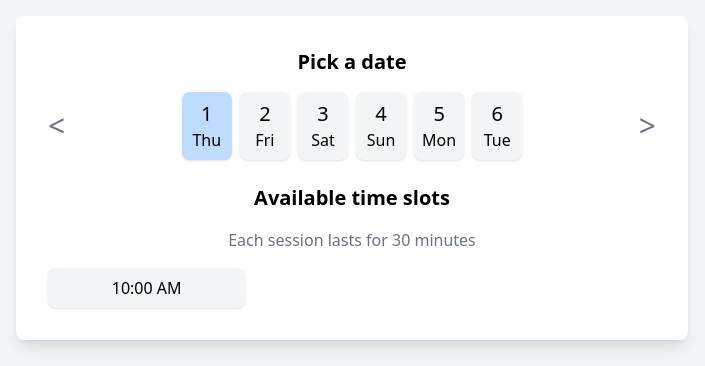
DateTimePicker Component › paginates through dates
The image size is (705, 366).
Expected: the text "1" is shown, [201,100,212,128]
Note: Test pagination to next page
Click the button ">" at (647, 126), box [639,108,656,144]
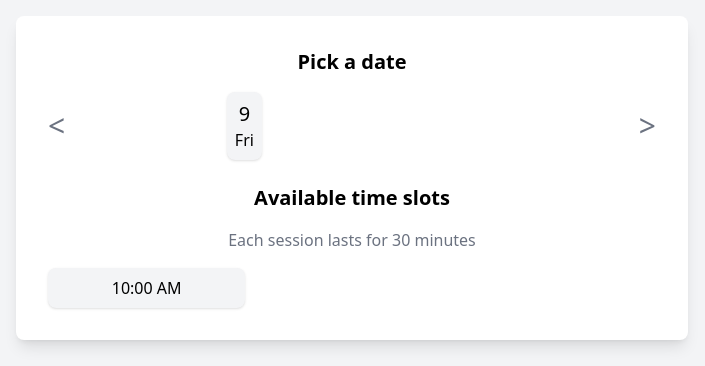
Now the text "9" is shown, box [239,100,250,128]
